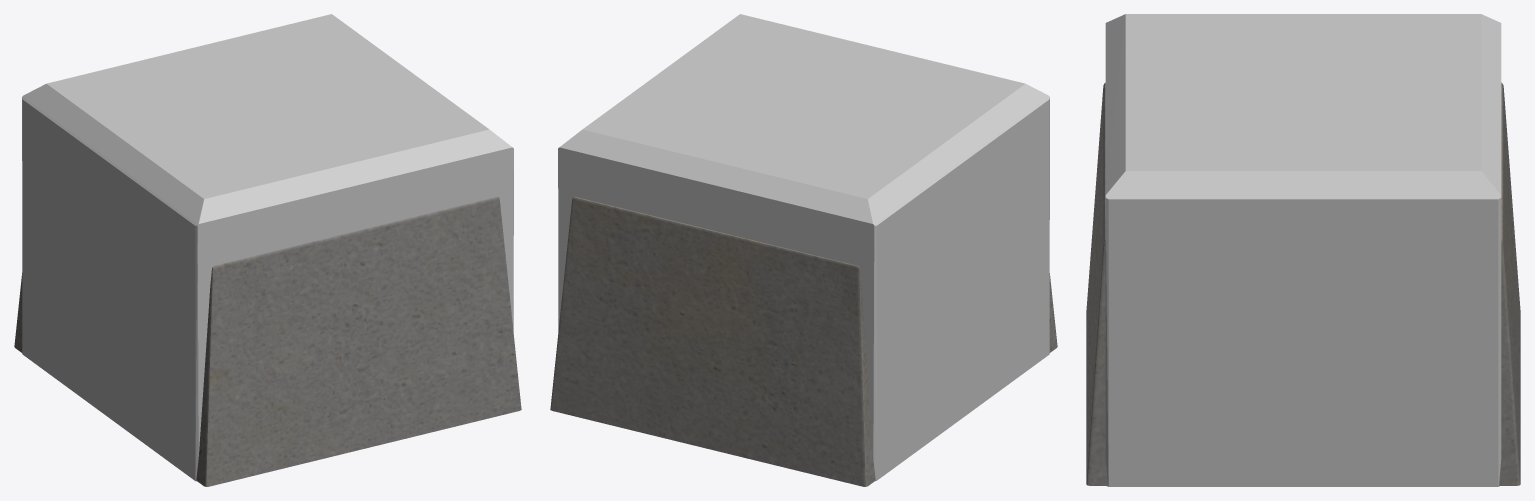
Rendered from SM_DG_FoundationStone01A.fbx.
The picture shows the model from 3 angles, left to right: view 1: azimuth 30°, elevation 25°; view 2: azimuth 150°, elevation 25°; view 3: azimuth 270°, elevation 25°; orthographic projection. The views are drawn at different scales.
Visible parts, largest first — view 1: SM_DG_FoundationStone01A_ConvexHulls, SM_DG_FoundationStone01A; view 2: SM_DG_FoundationStone01A_ConvexHulls, SM_DG_FoundationStone01A; view 3: SM_DG_FoundationStone01A_ConvexHulls, SM_DG_FoundationStone01A.
Part boxes in pixels (x1,y1,x2,y2): SM_DG_FoundationStone01A_ConvexHulls: [22, 14, 513, 481]; SM_DG_FoundationStone01A: [14, 197, 521, 486]; SM_DG_FoundationStone01A_ConvexHulls: [558, 14, 1049, 481]; SM_DG_FoundationStone01A: [550, 197, 1057, 486]; SM_DG_FoundationStone01A_ConvexHulls: [1105, 14, 1501, 486]; SM_DG_FoundationStone01A: [1086, 82, 1520, 485].
Size of the model in its own units: 61.74 by 64.77 by 50.49.
2 materials, 1 textured.
